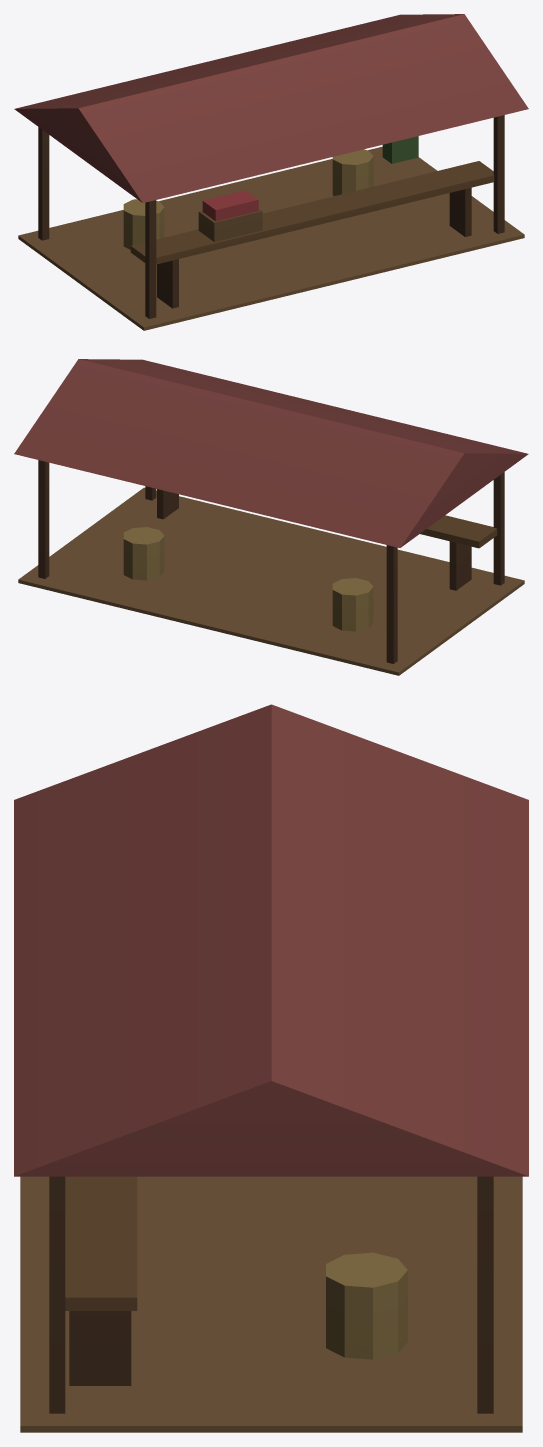
Rendered from yard_stall.glb.
3 renders of one model, top to bottom at view 1: azimuth 30°, elevation 25°; view 2: azimuth 150°, elevation 25°; view 3: azimuth 270°, elevation 25°, orthographic. The views are drawn at different scales.
Visible parts, largest first — view 1: prop; view 2: prop; view 3: prop.
Part boxes in pixels (x1,y1,x2,y2): prop: [14, 14, 528, 330]; prop: [14, 359, 528, 675]; prop: [14, 704, 528, 1432].
Bounding box in the file's own units: 7.18 × 3.15 × 4.15.
